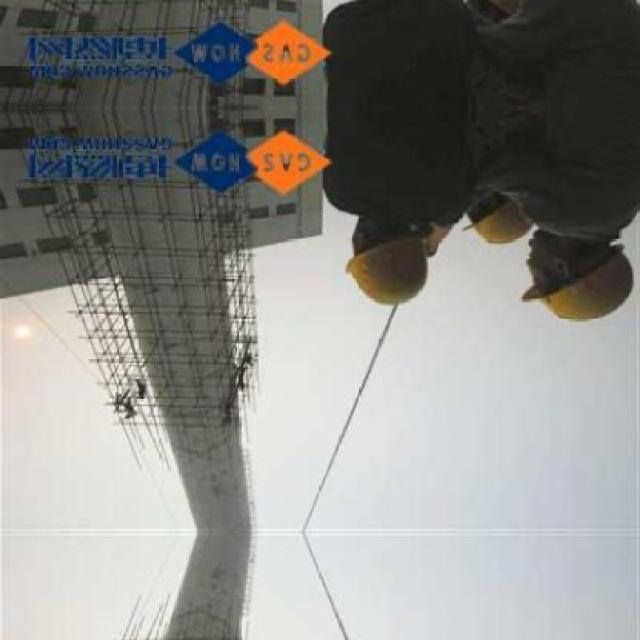con casco: (522, 190, 639, 336), (342, 184, 424, 328)
